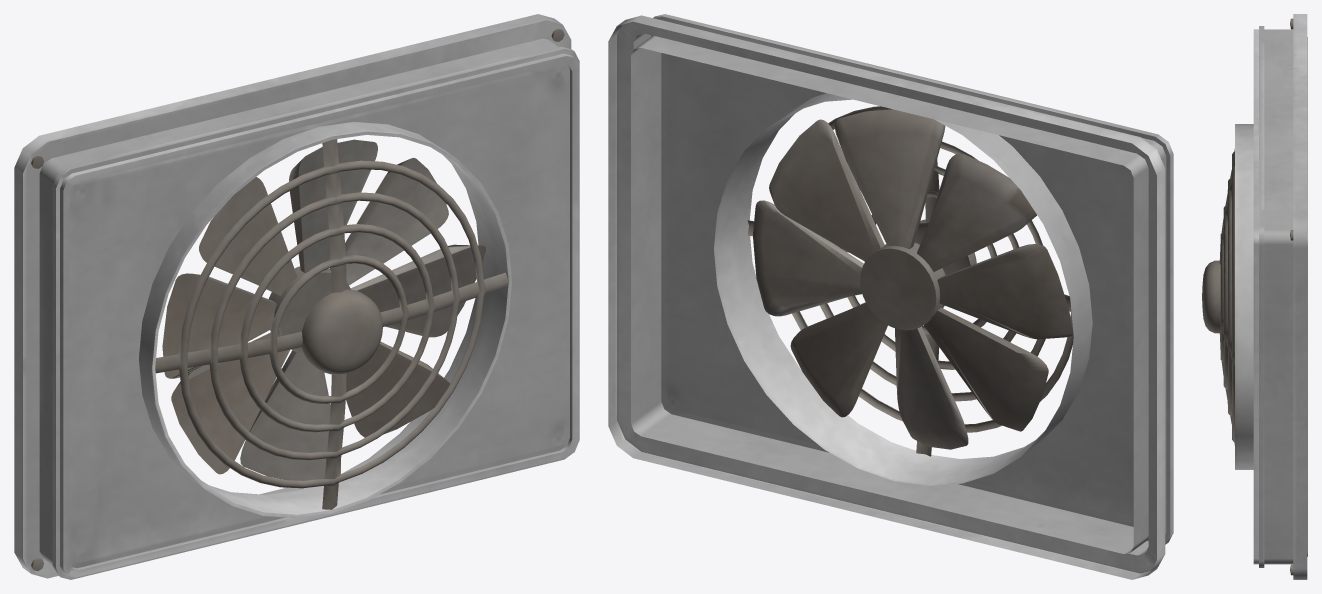
Rendered from AirductCircular.fbx.
3 views of the same model, side by side, from view 1: azimuth 30°, elevation 25°; view 2: azimuth 150°, elevation 25°; view 3: azimuth 270°, elevation 25° (orthographic). The views are drawn at different scales.
Parts seen in each view (by area): view 1: modular_airduct_rectangular_vent_fan.002; view 2: modular_airduct_rectangular_vent_fan.002; view 3: modular_airduct_rectangular_vent_fan.002.
Part boxes in pixels (bbox=[...]): modular_airduct_rectangular_vent_fan.002: bbox=[14, 14, 579, 579]; modular_airduct_rectangular_vent_fan.002: bbox=[608, 14, 1173, 579]; modular_airduct_rectangular_vent_fan.002: bbox=[1202, 14, 1307, 579].
Size of the model in its own units: 55.21 by 42 by 11.08.
